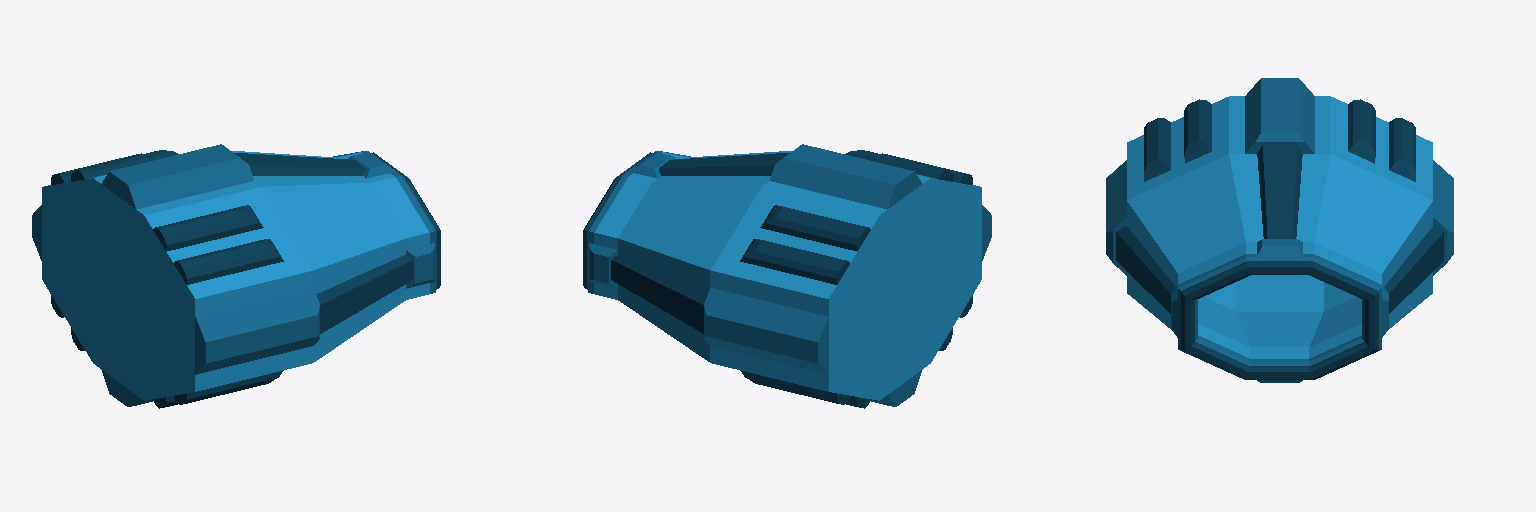
The model's file is Spacestation_Propulsion_Hyperdrive_Rearmount_Large.obj.
The picture shows the model from 3 angles: view 1: azimuth 30°, elevation 25°; view 2: azimuth 150°, elevation 25°; view 3: azimuth 270°, elevation 25°; orthographic projection.
Parts seen in each view (by area): view 1: object13, object6, object2, object12, object15, object18, object9, object20, object14, object8, object17, object7 (+2 smaller); view 2: object13, object6, object1, object12, object5, object7, object11, object20, object14, object8, object21, object18 (+2 smaller); view 3: object6, object13, object19, object20, object12, object14, object8, object15, object5, object1, object2, object18 (+3 smaller).
Boxes of the visible parts, <box> form: object13: <box>42,174,313,400</box>; object6: <box>232,151,405,361</box>; object2: <box>195,288,319,374</box>; object12: <box>102,144,253,209</box>; object15: <box>316,255,412,333</box>; object18: <box>153,205,263,251</box>; object9: <box>174,239,283,284</box>; object20: <box>333,151,436,293</box>; object14: <box>335,152,429,299</box>; object8: <box>234,153,364,175</box>; object17: <box>174,370,283,404</box>; object7: <box>71,150,178,181</box>; object13: <box>710,174,981,400</box>; object6: <box>618,151,791,361</box>; object1: <box>704,288,828,374</box>; object12: <box>770,144,921,209</box>; object5: <box>611,255,707,333</box>; object7: <box>760,205,870,251</box>; object11: <box>740,239,849,284</box>; object20: <box>587,151,690,293</box>; object14: <box>594,152,688,299</box>; object8: <box>659,153,789,175</box>; object21: <box>740,370,849,404</box>; object18: <box>845,150,952,181</box>; object6: <box>1127,154,1432,346</box>; object13: <box>1127,96,1432,311</box>; object19: <box>1181,261,1378,379</box>; object20: <box>1171,239,1388,382</box>; object12: <box>1245,78,1314,153</box>; object14: <box>1178,242,1381,358</box>; object8: <box>1257,145,1302,238</box>; object15: <box>1116,226,1175,313</box>; object5: <box>1384,226,1443,313</box>; object1: <box>1433,160,1453,275</box>; object2: <box>1106,160,1126,275</box>; object18: <box>1184,99,1211,163</box>.
Size of the model in its own units: 2.33 by 1.8 by 2.55.